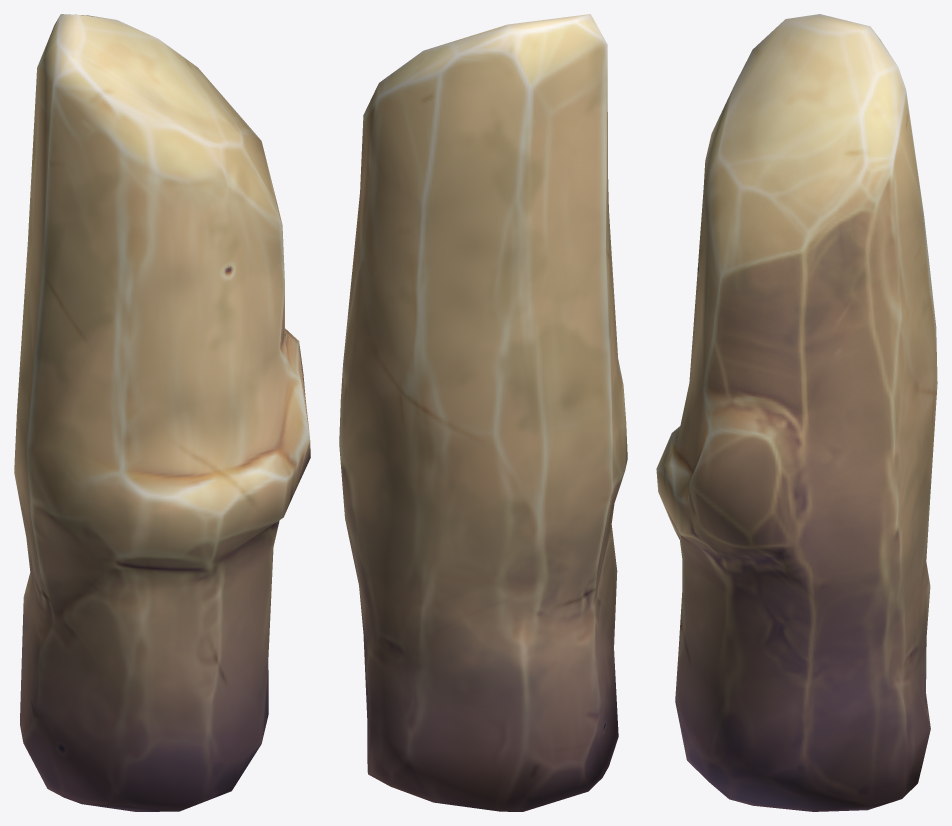
File: SM_Gem_Moonstone_007.fbx
3 views of the same model, side by side, from view 1: azimuth 30°, elevation 25°; view 2: azimuth 150°, elevation 25°; view 3: azimuth 270°, elevation 25° (orthographic). The views are drawn at different scales.
Visible parts, largest first — view 1: SM_Gem_Moonstone_007; view 2: SM_Gem_Moonstone_007; view 3: SM_Gem_Moonstone_007.
Boxes of the visible parts, x1,y1,x2,y2 form: SM_Gem_Moonstone_007: [14, 14, 310, 811]; SM_Gem_Moonstone_007: [339, 14, 627, 811]; SM_Gem_Moonstone_007: [656, 14, 937, 811].
Size of the model in its own units: 26.54 by 73.96 by 25.54.
